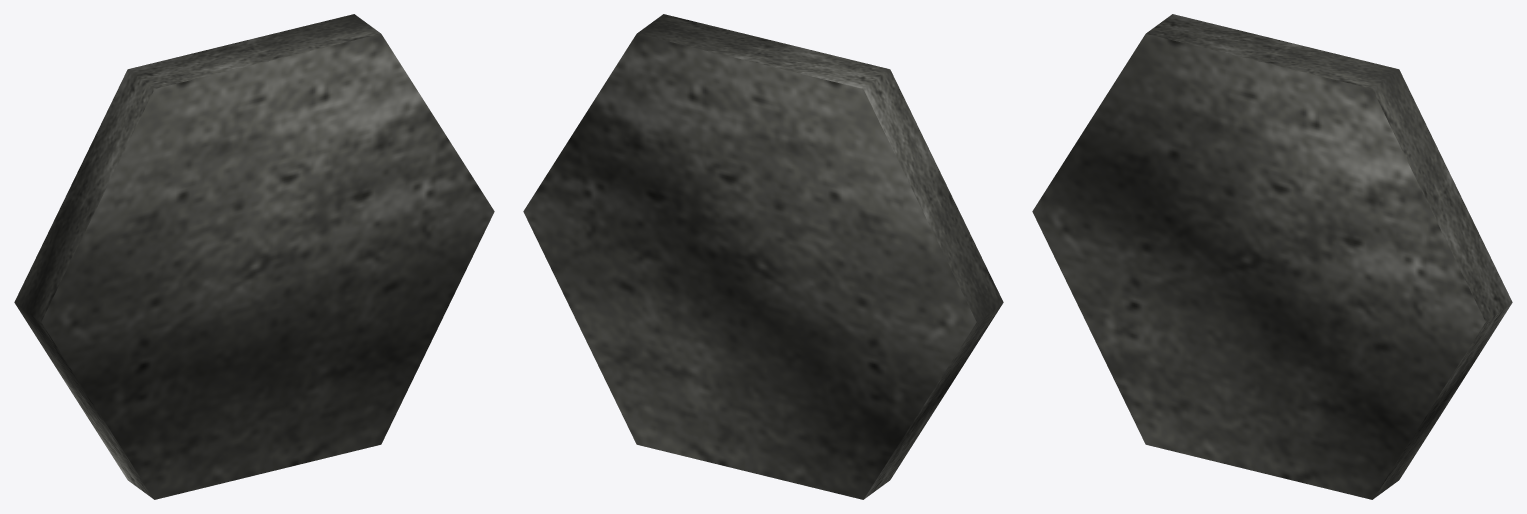
Rendered from large_metal_cap.fbx.
3 renders of one model, left to right at view 1: azimuth 30°, elevation 25°; view 2: azimuth 150°, elevation 25°; view 3: azimuth 330°, elevation 25°, orthographic.
Visible parts, largest first — view 1: polySurface674; view 2: polySurface674; view 3: polySurface674.
Part boxes in pixels (x1,y1,x2,y2): polySurface674: [14, 14, 494, 499]; polySurface674: [523, 14, 1003, 499]; polySurface674: [1032, 14, 1512, 499].
Bounding box in the file's own units: 1.3 × 1.13 × 0.1342.
